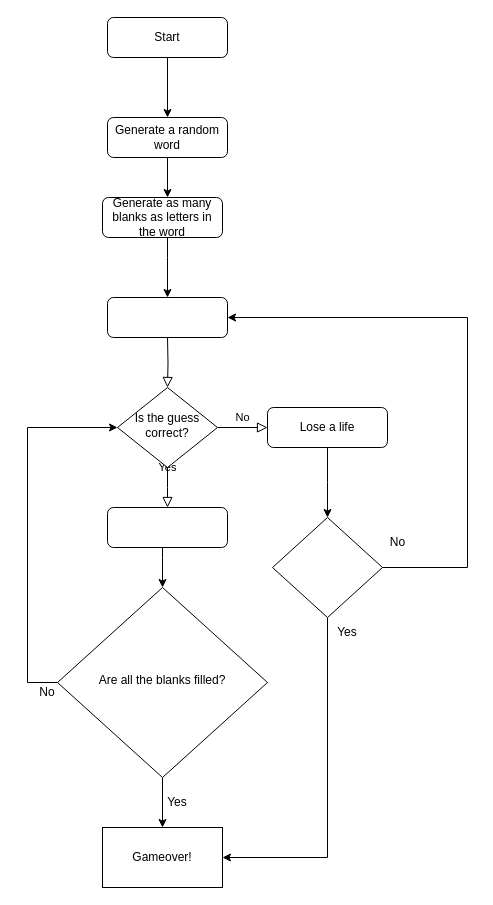
Some shapes in this 493 by 905 pixel diagram are drawn without their labels. The centre of each missing label's shape, as x and y in pixels:
"Ask user to make a guess" goes at [167,317].
"Have they run out of lives" goes at [327,567].
"Replace the blank with the guessed letter" goes at [167,527].
